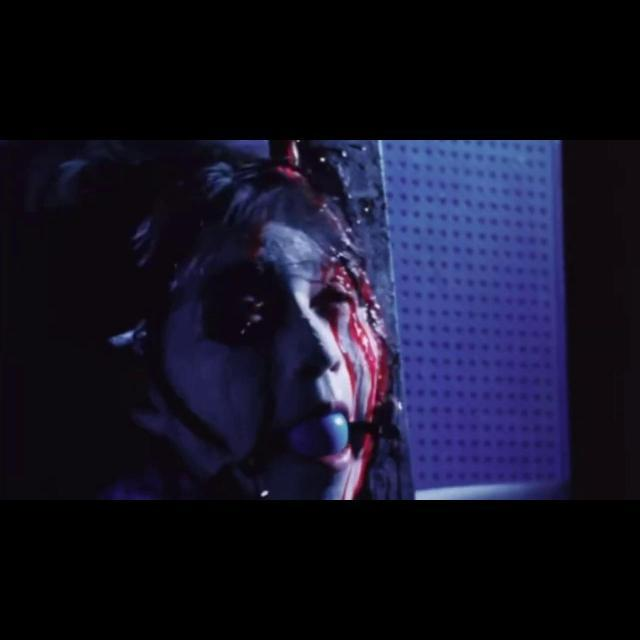blood: (270, 140, 413, 500)
